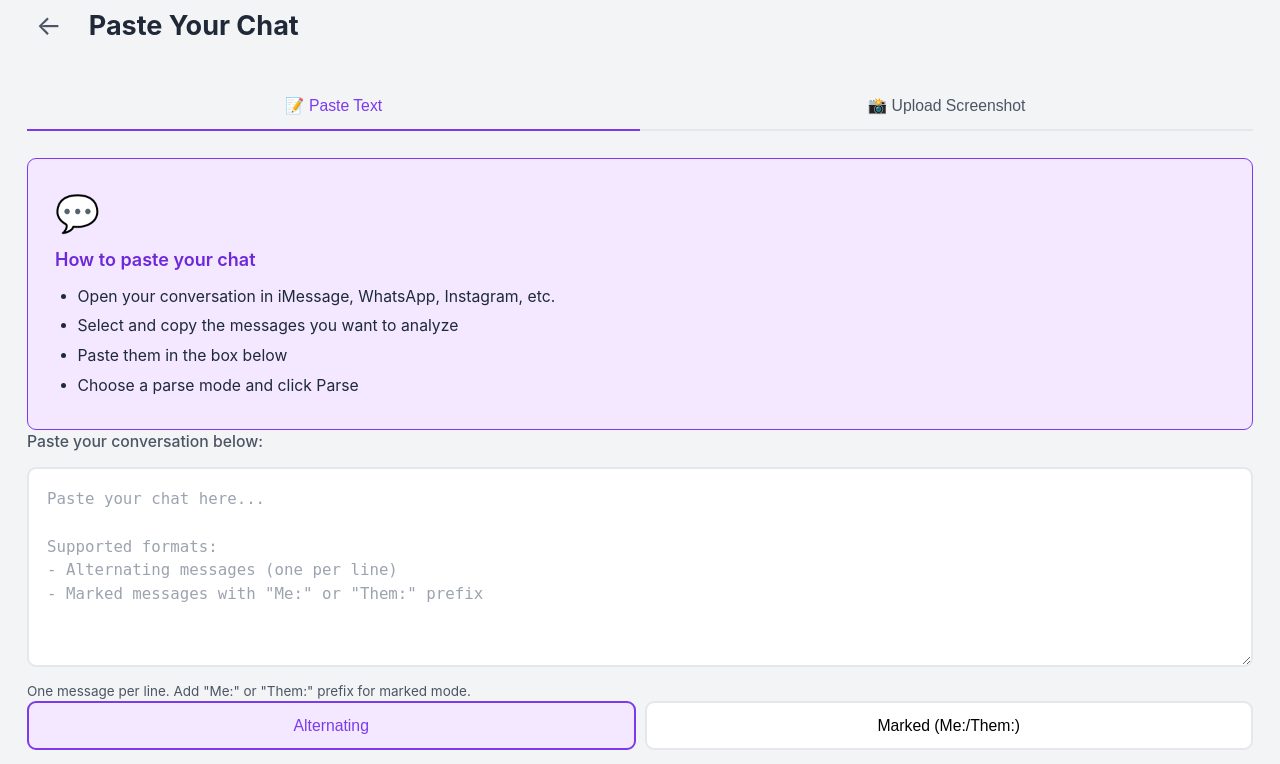
Test: End-to-end flow › parses conversation, edits a message, and continues to Results
This screenshot has width=1280, height=764.
Check: the heading "Paste Your Chat" is shown, box [89,10,299,42]
Note: Switch to Marked mode (Me:/Them: prefixes)
Click the radio button labelled "Marked (Me:/Them:)": (949, 726) [644,701,1253,750]
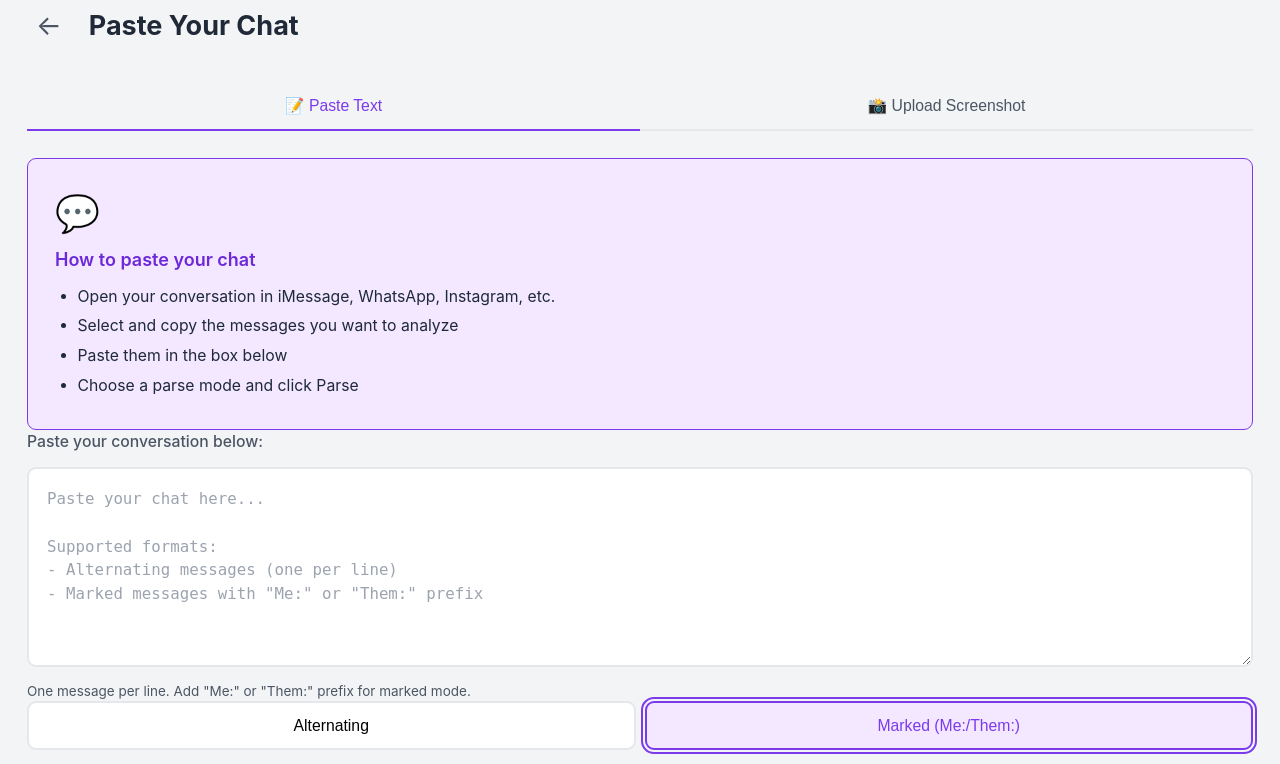
Note: Paste conversation into textarea
Replace the text in the text box labelled "Paste your conversation below:" with "Me: hey you around tonight? Them: for you? always 😍 Me: ok movie at 8? Them: sounds perfect! Me: great see you there": (640, 568) [27,468,1253,668]
(page scrolled)
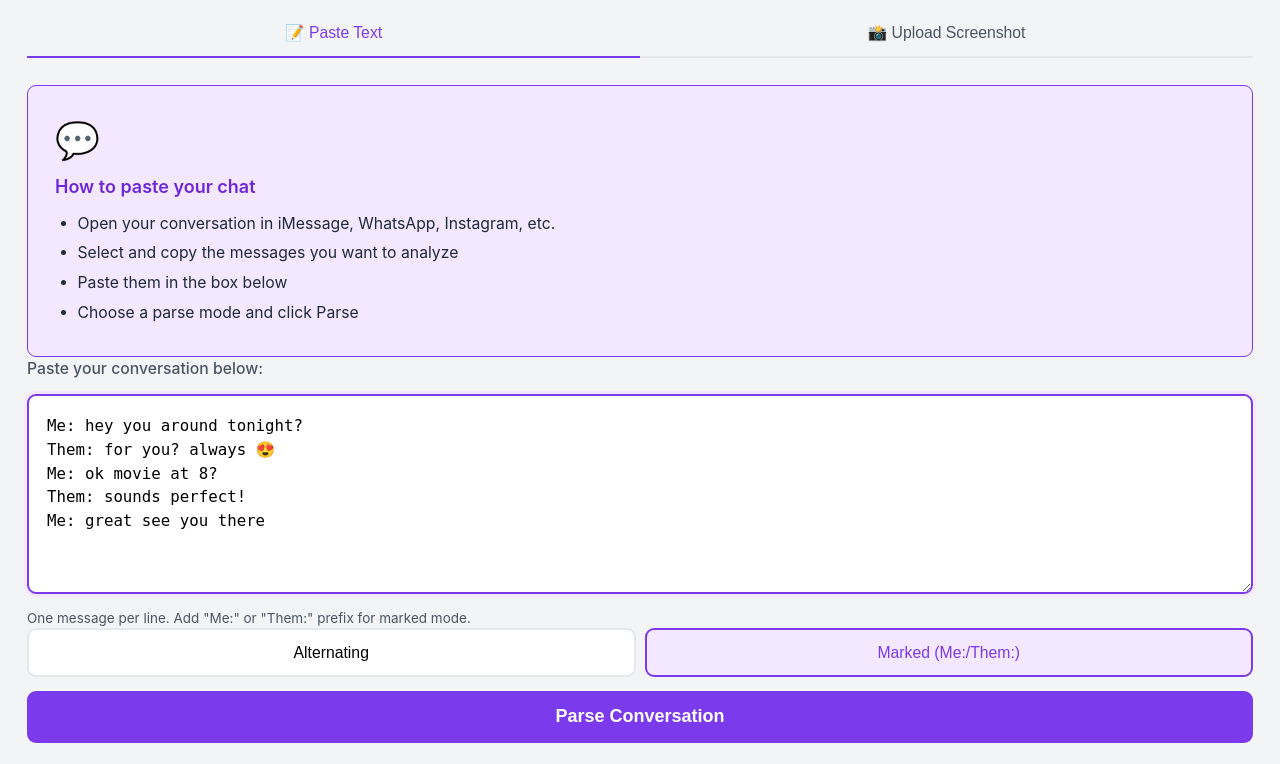
Note: Click "Parse Conversation"
Click the button "Parse Conversation": (640, 717) [27,691,1253,743]
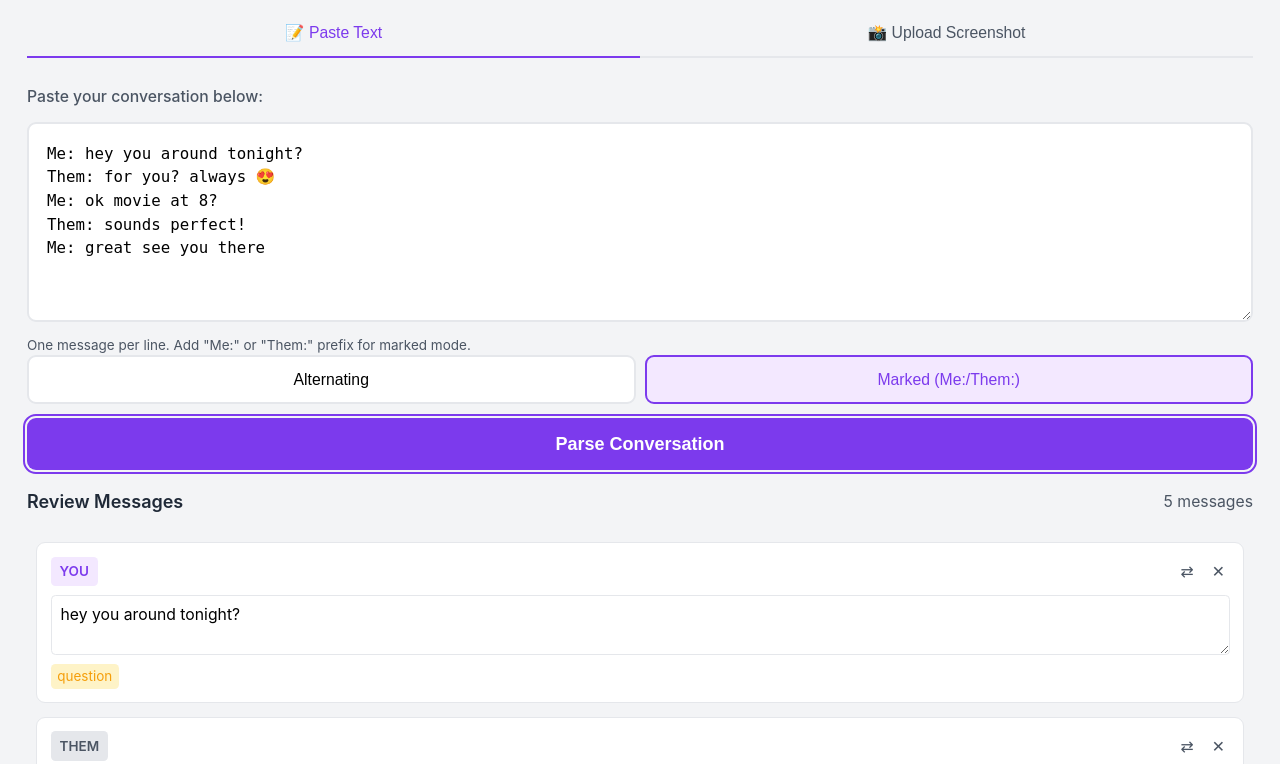
Check: the 1st text box showing "hey you around tonight?" is shown
Note: Edit the first message (change "hey" to "hey!")
Replace the text in the 1st text box showing "hey you around tonight?" with "hey! you around tonight?": (640, 625) [50,595,1230,655]
(page scrolled)
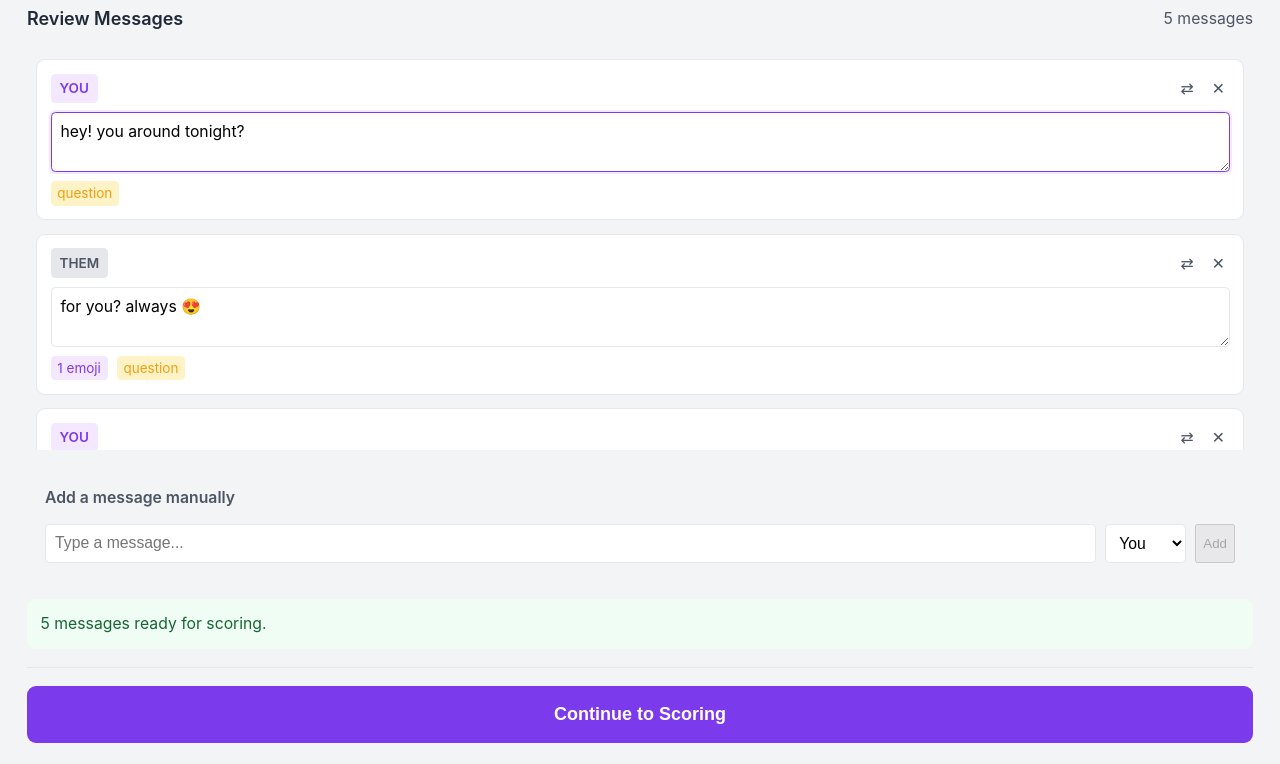
Note: Click "Continue to Scoring"
Click the button "Continue to Scoring": (640, 715) [27,686,1253,743]
(page scrolled)
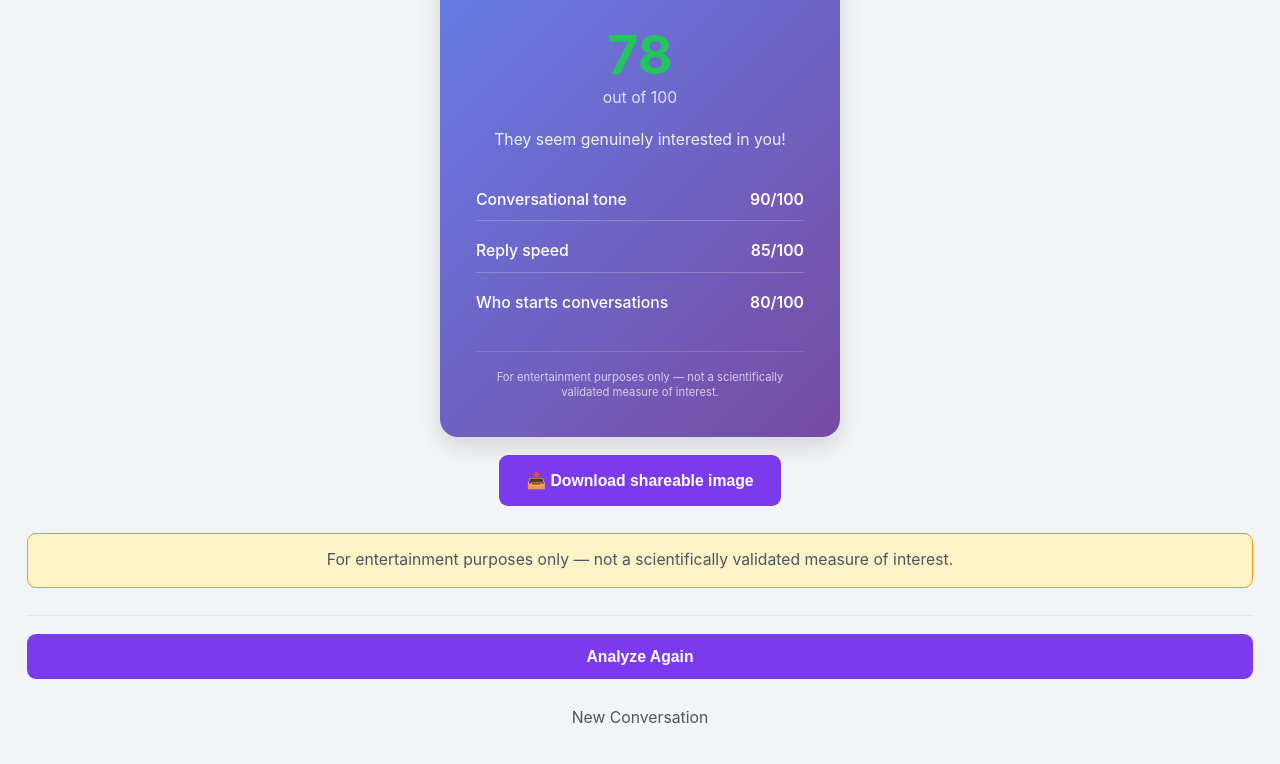
Check: the text "They seem genuinely interested in you!" is shown 2 times
Check: the button "📥 Download shareable image" is shown, box [500,455,781,506]
